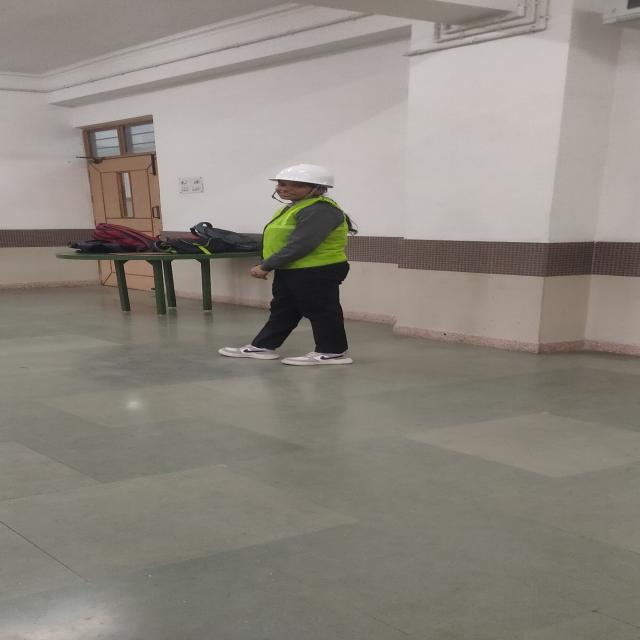safe: (261, 164, 351, 365)
